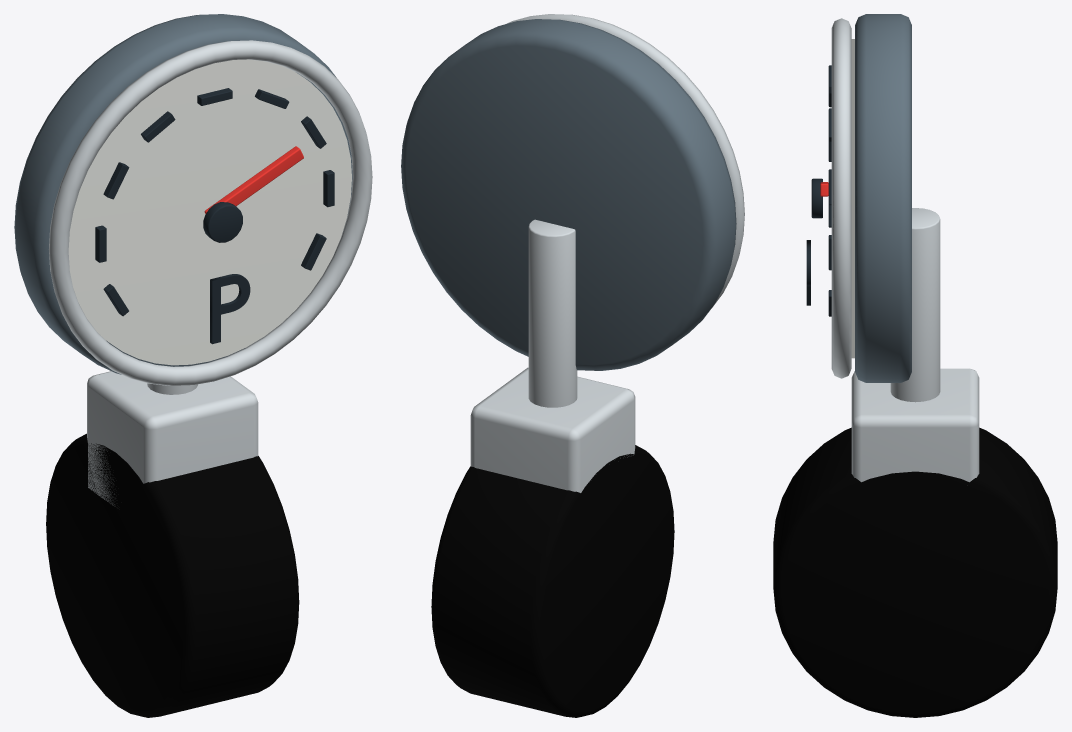
File: pressure-gauge.glb
3 views of the same model, side by side, from view 1: azimuth 30°, elevation 25°; view 2: azimuth 150°, elevation 25°; view 3: azimuth 270°, elevation 25° (orthographic). The views are drawn at different scales.
Parts seen in each view (by area): view 1: white pressure dial face, pressure saddle clamp body, pressure polished dial bezel, round pressure gauge body, pressure tap boss, pressure P label, pressure red pointer, pressure pointer hub; view 2: round pressure gauge body, pressure saddle clamp body, pressure tap boss, pressure tap stem, pressure polished dial bezel; view 3: pressure saddle clamp body, round pressure gauge body, pressure tap boss, pressure polished dial bezel, pressure tap stem, white pressure dial face.
Part boxes in pixels (left/top/right/bottom): white pressure dial face: left=68, top=59, right=351, bottom=365; pressure saddle clamp body: left=46, top=433, right=299, bottom=717; pressure polished dial bezel: left=49, top=40, right=372, bottom=385; round pressure gauge body: left=14, top=14, right=352, bottom=374; pressure tap boss: left=87, top=371, right=258, bottom=506; pressure P label: left=210, top=274, right=250, bottom=344; pressure red pointer: left=204, top=146, right=303, bottom=213; pressure pointer hub: left=203, top=202, right=242, bottom=242; round pressure gauge body: left=401, top=19, right=736, bottom=370; pressure saddle clamp body: left=431, top=445, right=674, bottom=717; pressure tap boss: left=470, top=367, right=635, bottom=492; pressure tap stem: left=528, top=219, right=577, bottom=407; pressure polished dial bezel: left=506, top=14, right=744, bottom=307; pressure saddle clamp body: left=773, top=427, right=1057, bottom=717; round pressure gauge body: left=855, top=14, right=911, bottom=382; pressure tap boss: left=851, top=368, right=979, bottom=482; pressure polished dial bezel: left=831, top=18, right=851, bottom=378; pressure tap stem: left=890, top=208, right=940, bottom=402; white pressure dial face: left=851, top=39, right=854, bottom=358.
Size of the model in its own units: 0.52 by 1.03 by 0.4.
